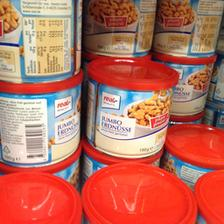Nuss: (85, 55, 180, 159), (0, 74, 84, 166), (0, 0, 80, 83), (82, 1, 156, 56), (154, 53, 216, 115), (149, 0, 222, 52)
